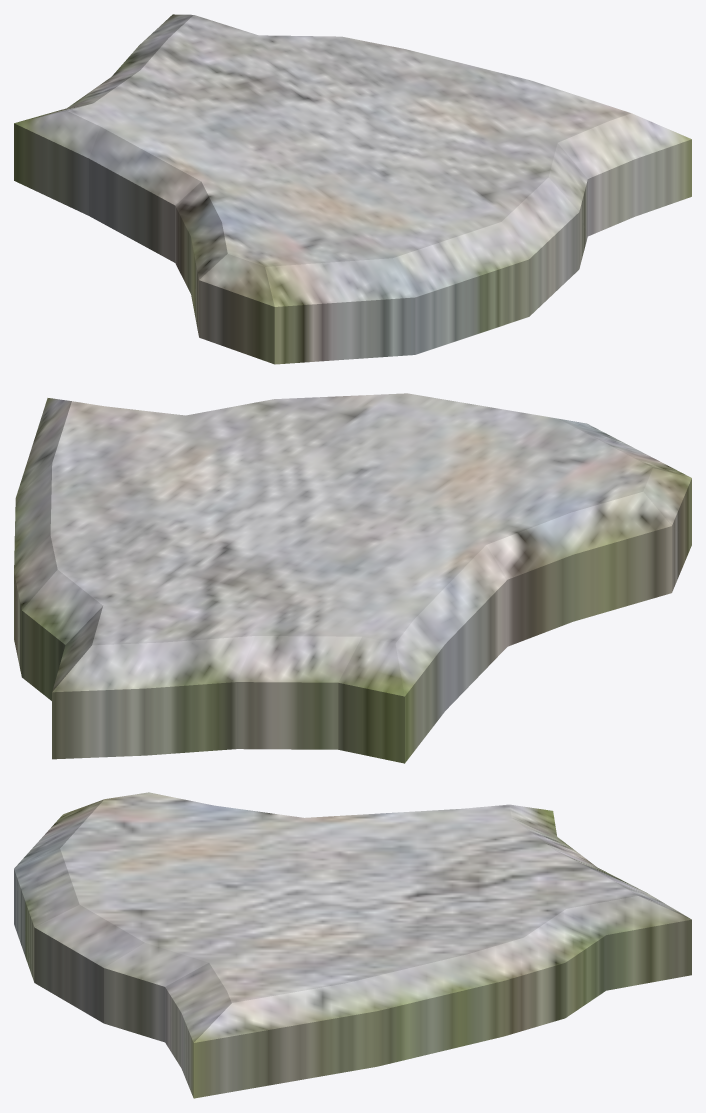
File: stone.13.fbx
3 renders of one model, top to bottom at view 1: azimuth 30°, elevation 25°; view 2: azimuth 150°, elevation 25°; view 3: azimuth 270°, elevation 25°, orthographic. The views are drawn at different scales.
Parts seen in each view (by area): view 1: stone.13; view 2: stone.13; view 3: stone.13.
Boxes of the visible parts, x1,y1,x2,y2 form: stone.13: (14,14,691,364); stone.13: (14,393,691,763); stone.13: (14,792,691,1098).
Size of the model in its own units: 66.34 by 9.74 by 78.38.
Materials: 1 (1 with a texture image).
